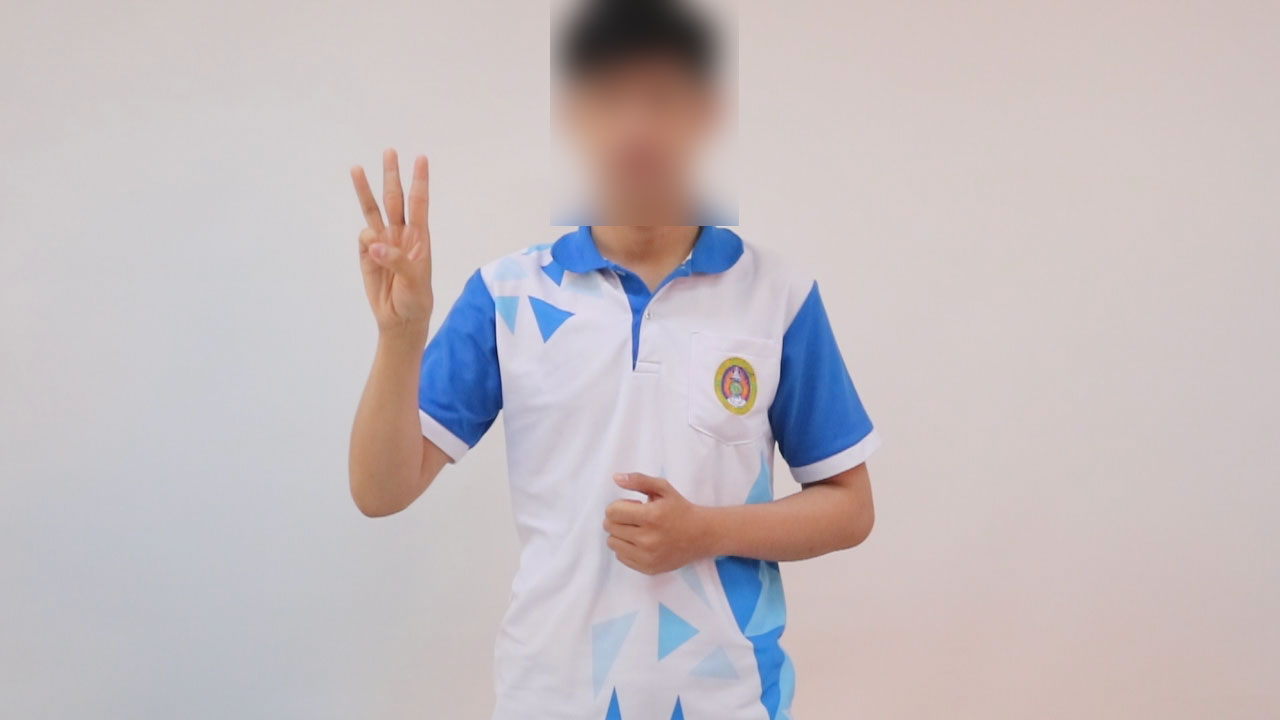wor: (343, 142, 438, 347)
